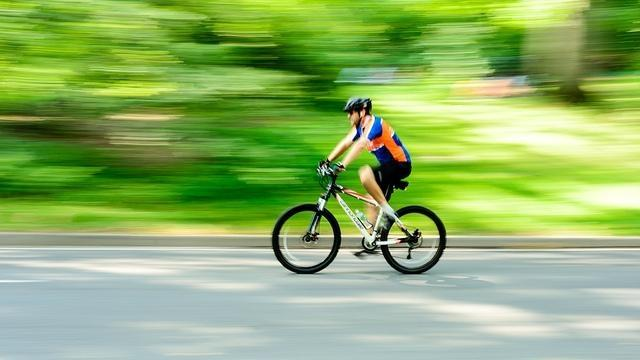bicycle: (270, 162, 448, 274)
